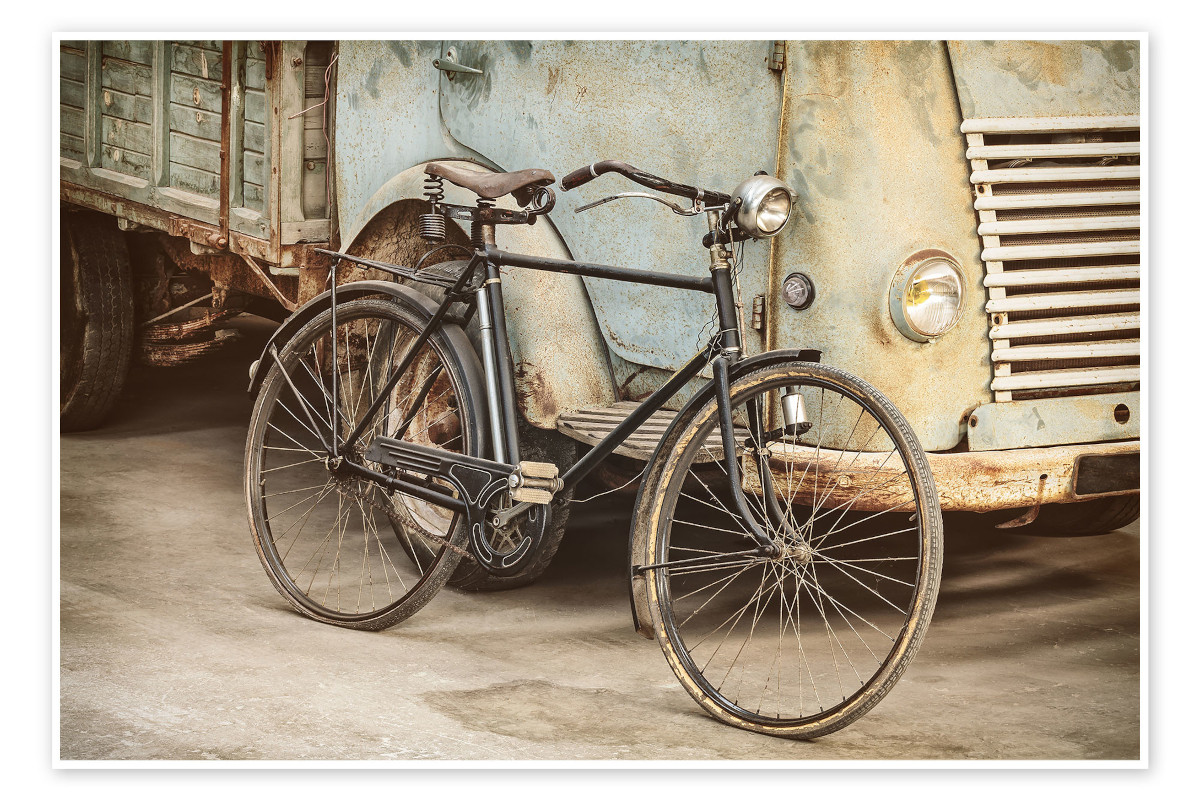bicycle: (238, 157, 948, 741)
